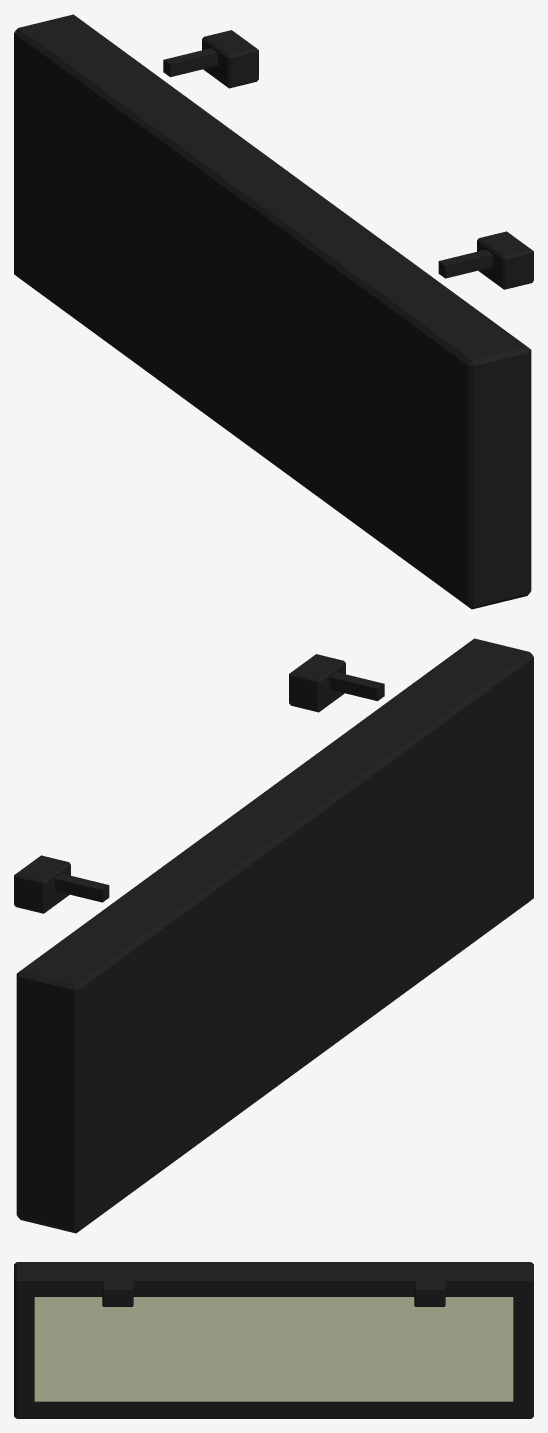
Rendered from SM_Build_Ladenschild_Band.fbx.
3 renders of one model, top to bottom at view 1: azimuth 30°, elevation 25°; view 2: azimuth 150°, elevation 25°; view 3: azimuth 270°, elevation 25°, orthographic. The views are drawn at different scales.
Visible parts, largest first — view 1: Ladenschild Band; view 2: Ladenschild Band; view 3: Ladenschild Band.
Part boxes in pixels (x1,y1,x2,y2): Ladenschild Band: (14, 14, 533, 609); Ladenschild Band: (14, 638, 533, 1233); Ladenschild Band: (14, 1262, 533, 1418).
Size of the model in its own units: 0.36 by 0.65 by 2.
